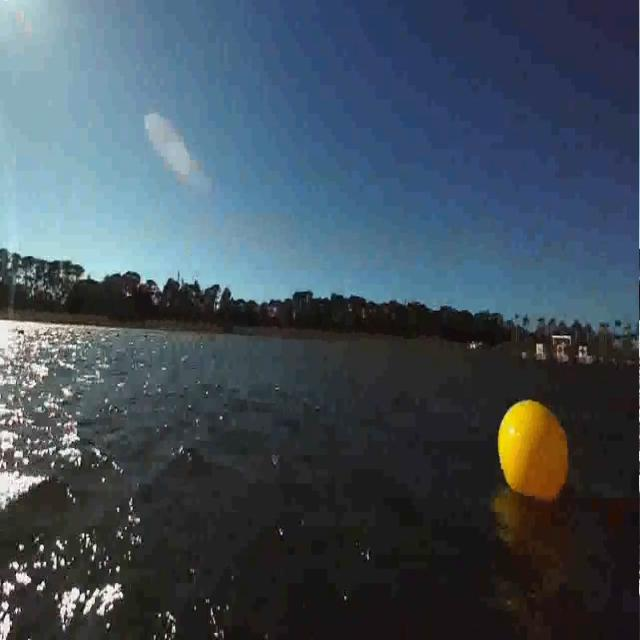yellow-buoy: (493, 396, 574, 506)
